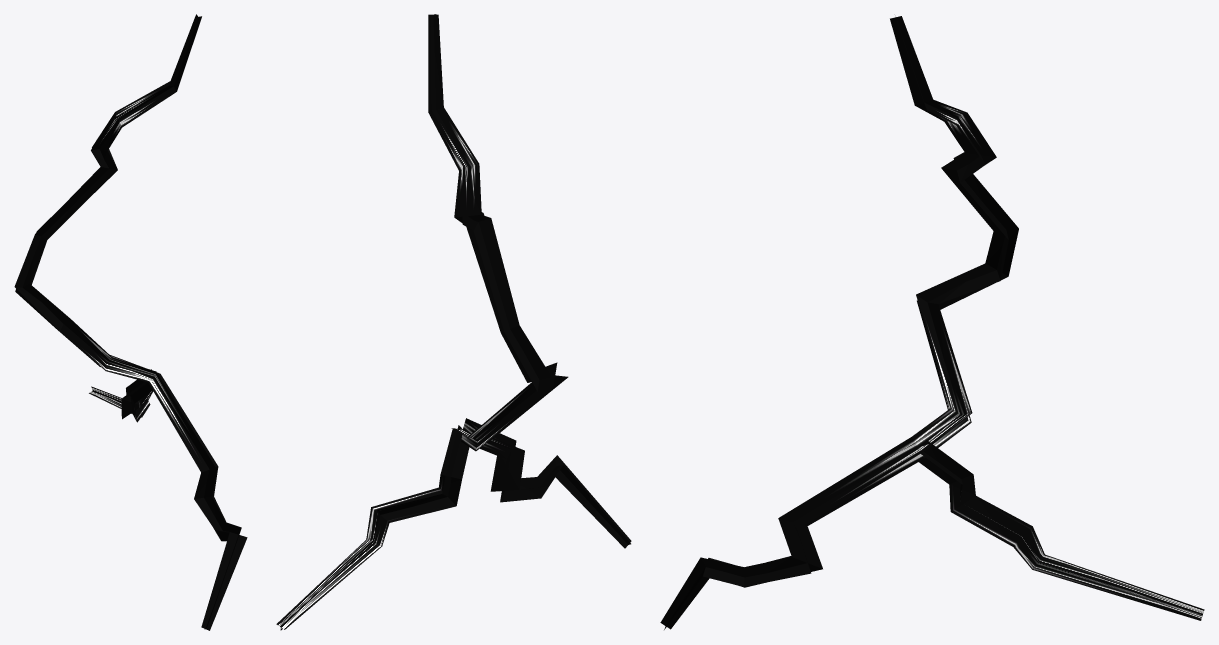
File: LightningB04.fbx
3 renders of one model, left to right at view 1: azimuth 30°, elevation 25°; view 2: azimuth 150°, elevation 25°; view 3: azimuth 270°, elevation 25°, orthographic. The views are drawn at different scales.
Parts seen in each view (by area): view 1: SM_EFF_Lightning_B_04.mo; view 2: SM_EFF_Lightning_B_04.mo; view 3: SM_EFF_Lightning_B_04.mo.
Part boxes in pixels (left/top/right/bottom): SM_EFF_Lightning_B_04.mo: left=14, top=14, right=247, bottom=630; SM_EFF_Lightning_B_04.mo: left=276, top=14, right=631, bottom=630; SM_EFF_Lightning_B_04.mo: left=660, top=16, right=1204, bottom=629.
Bounding box in the file's own units: 145 × 442 × 328.
